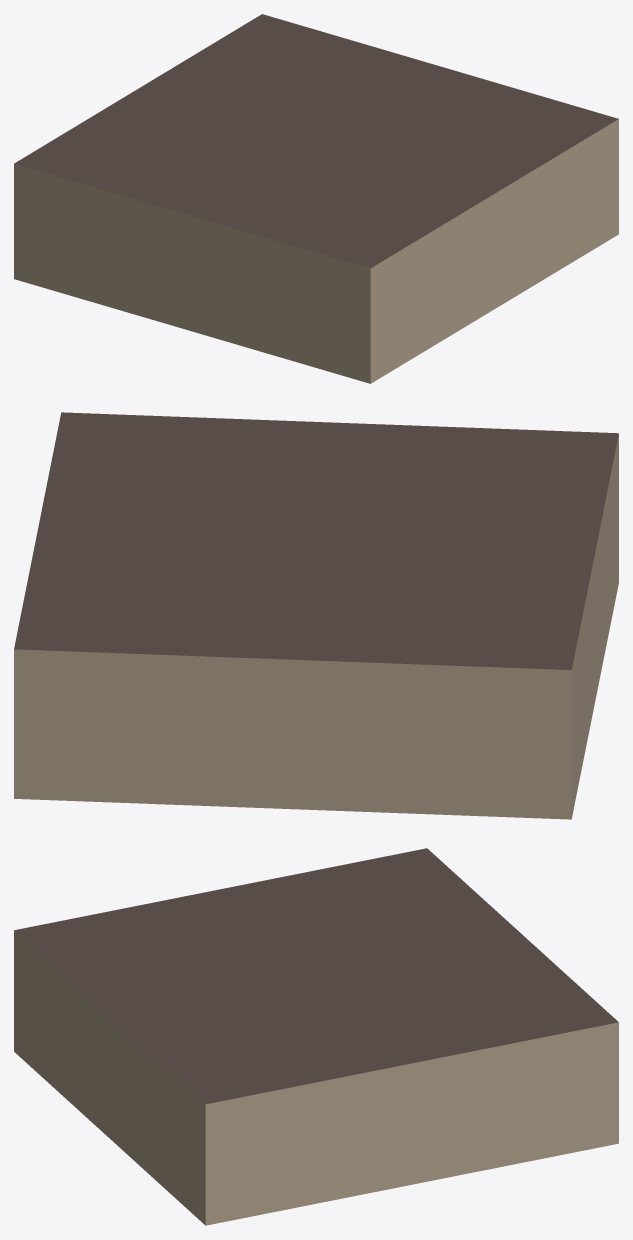
3 renders of one model, top to bottom at view 1: azimuth 30°, elevation 25°; view 2: azimuth 150°, elevation 25°; view 3: azimuth 270°, elevation 25°, orthographic. The views are drawn at different scales.
Parts seen in each view (by area): view 1: HP-w369237876; view 2: HP-w369237876; view 3: HP-w369237876.
Part boxes in pixels (bbox=[...]): HP-w369237876: bbox=[14, 14, 618, 383]; HP-w369237876: bbox=[14, 412, 618, 819]; HP-w369237876: bbox=[14, 848, 618, 1225].
Size of the model in its own units: 40.75 by 9 by 40.67.
